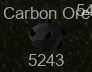Carbon: (3, 5, 89, 67)
